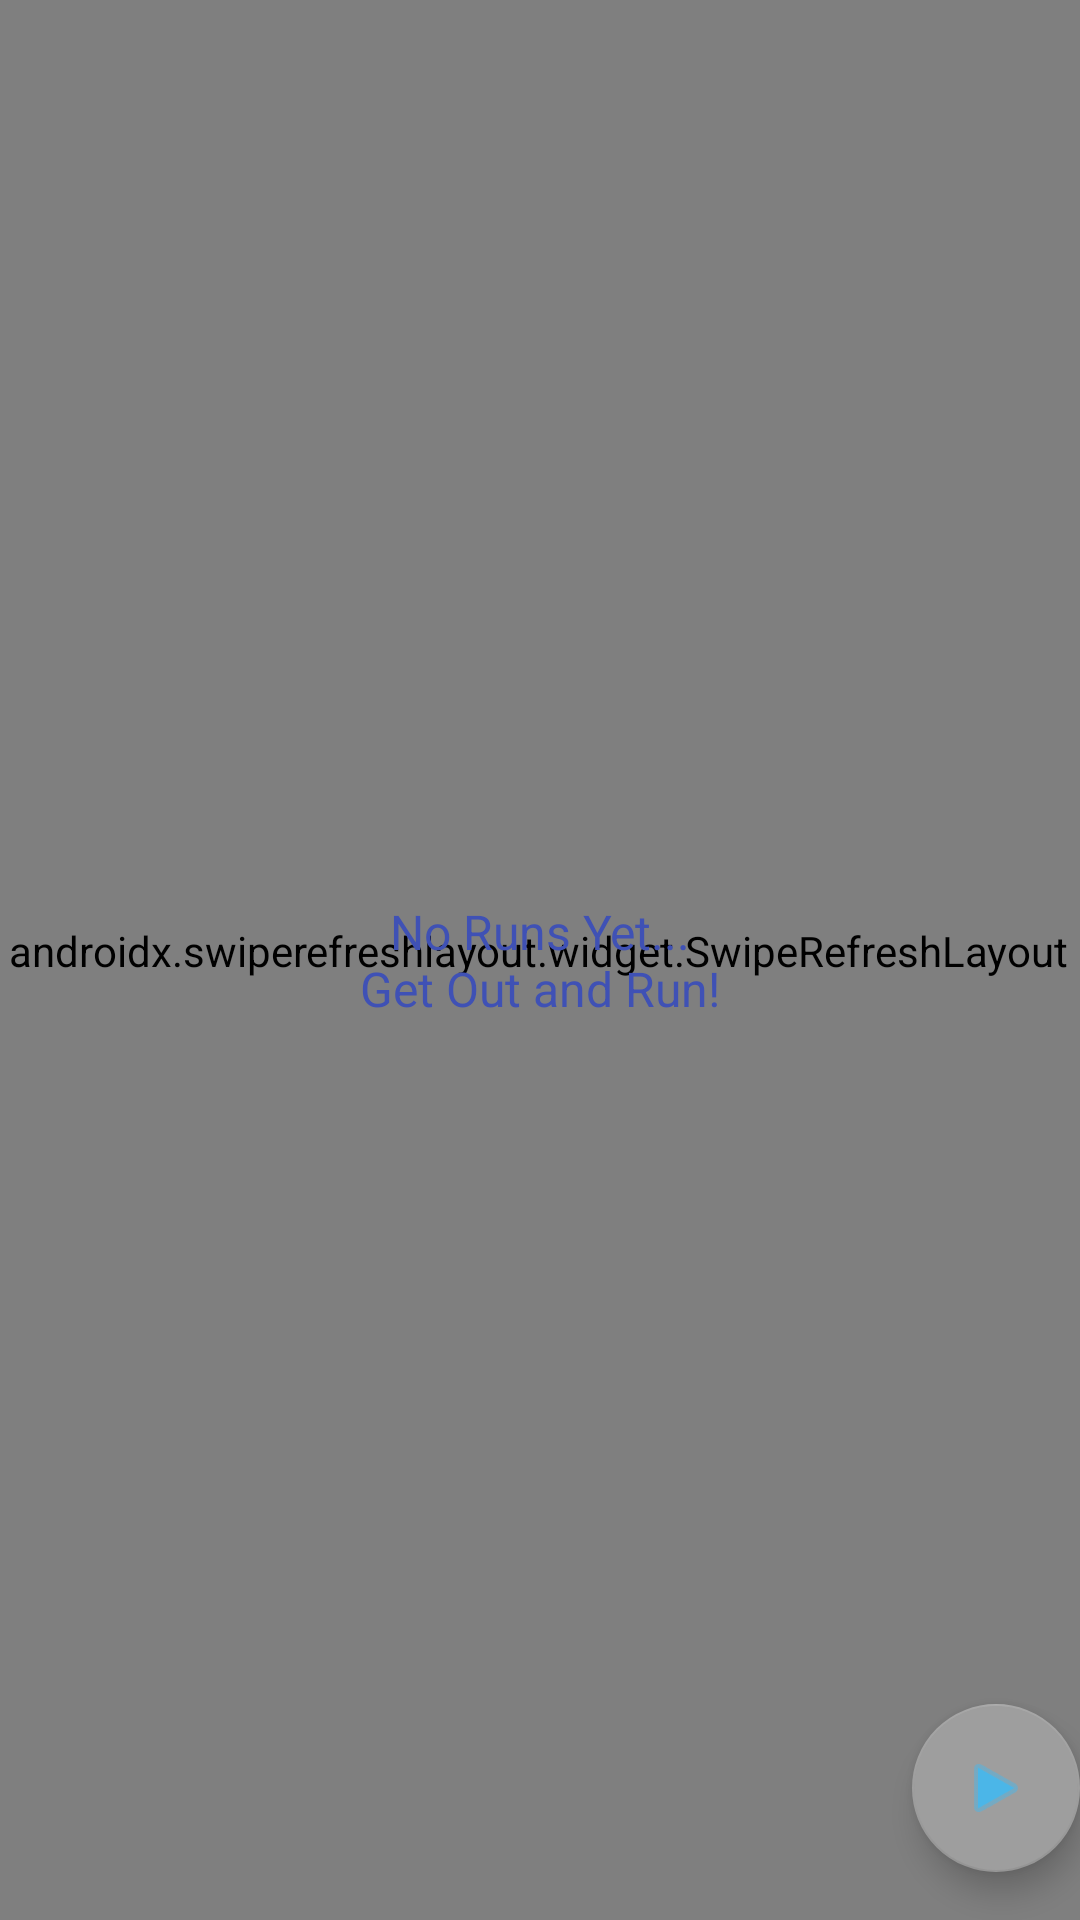

Screen size 1080 × 1920. Icon name, then its box in pixels as (x1, y1, x2, y2):
play: (912, 1704, 1080, 1872)
